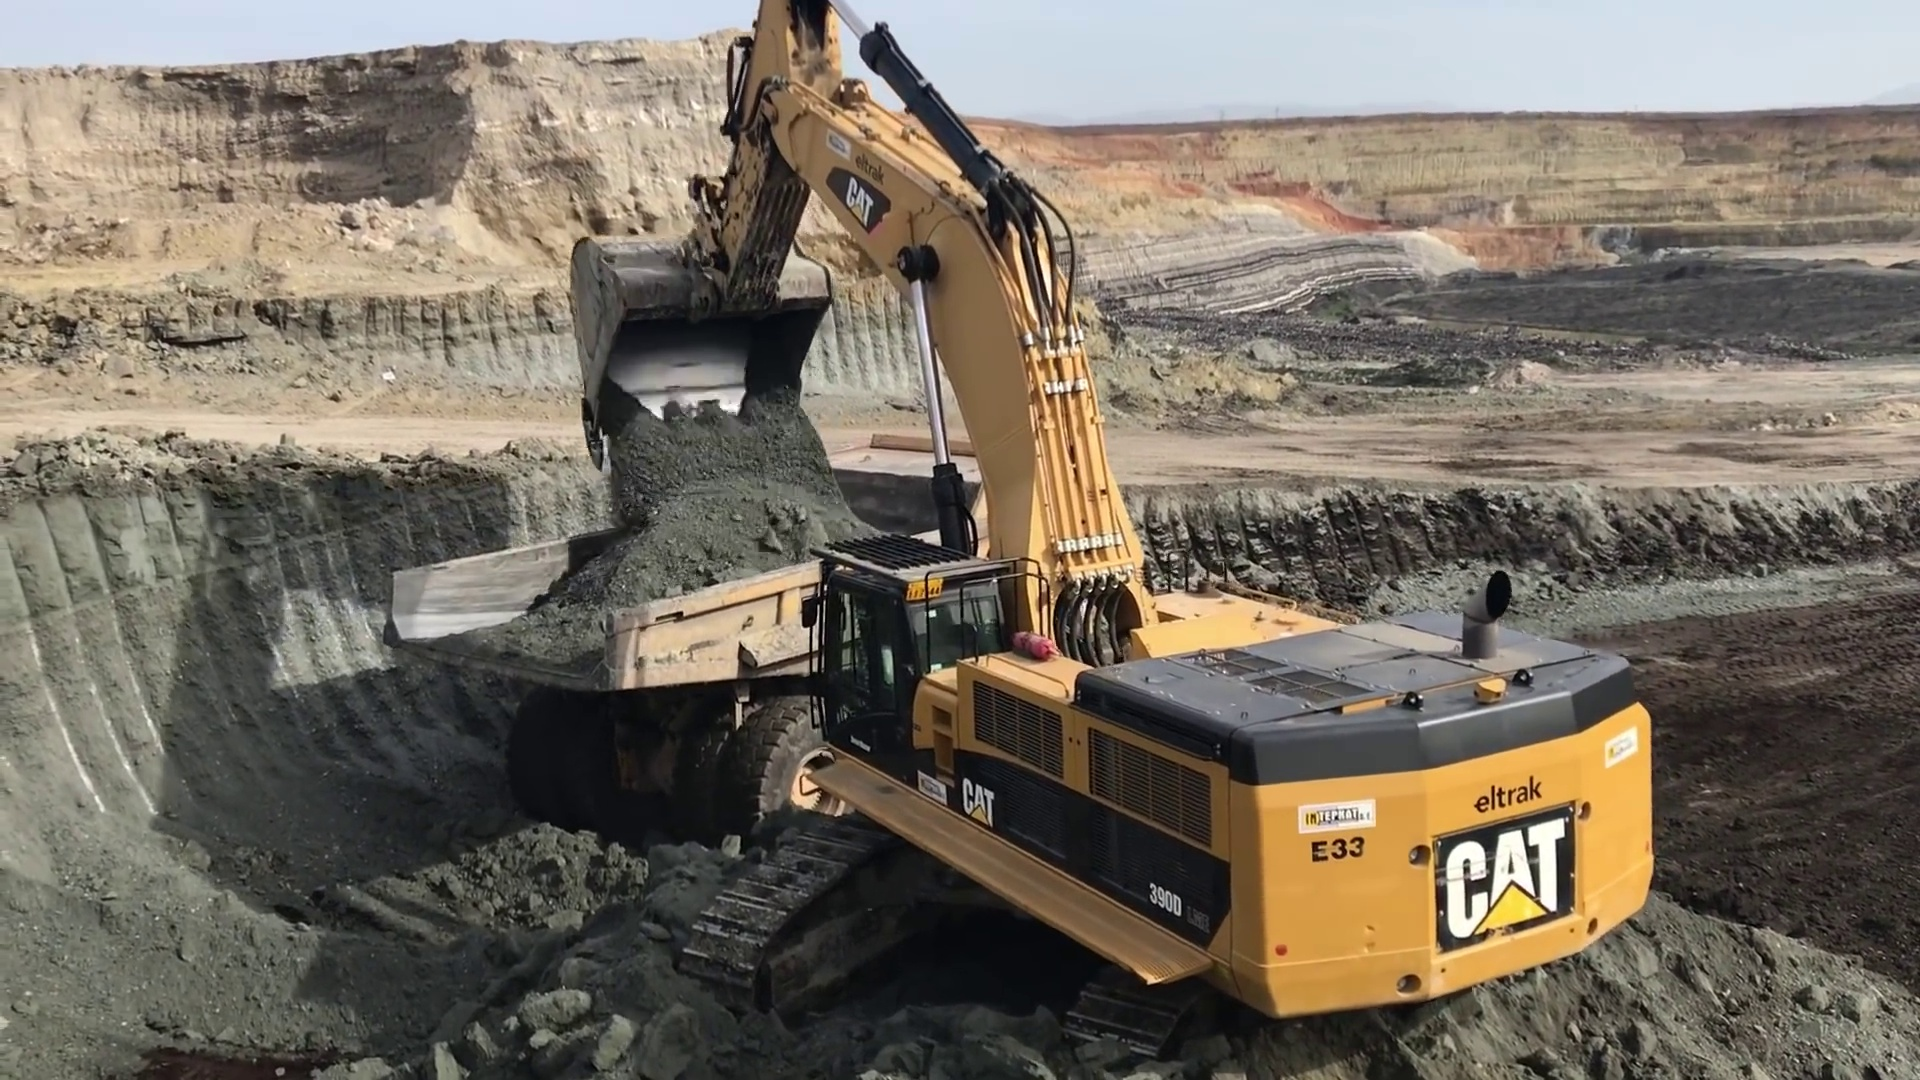dumper: (397, 431, 1035, 847)
excavator: (570, 5, 1662, 1036)
